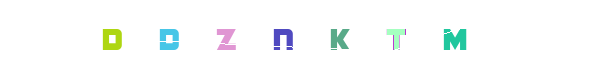D: (72, 0, 152, 80), (132, 0, 212, 80)
K: (263, 0, 343, 80)
M: (367, 0, 447, 80)
N: (245, 0, 325, 80)
T: (337, 0, 417, 80)
Z: (205, 0, 285, 80)
